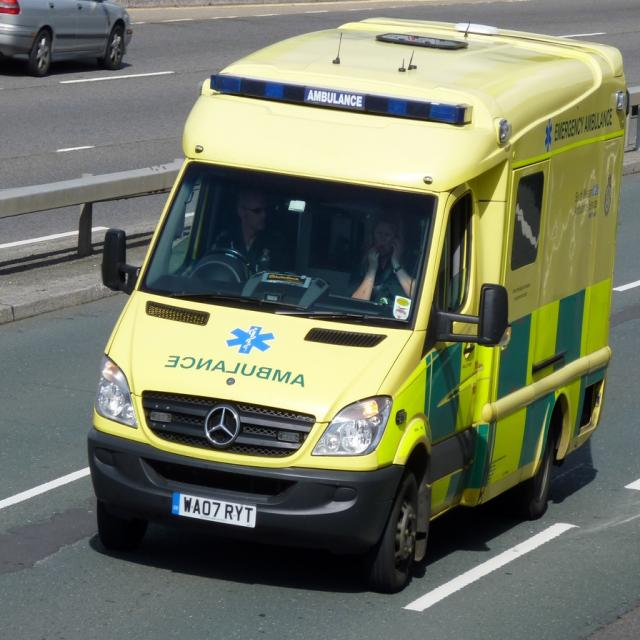Ambulance: (86, 21, 632, 590)
